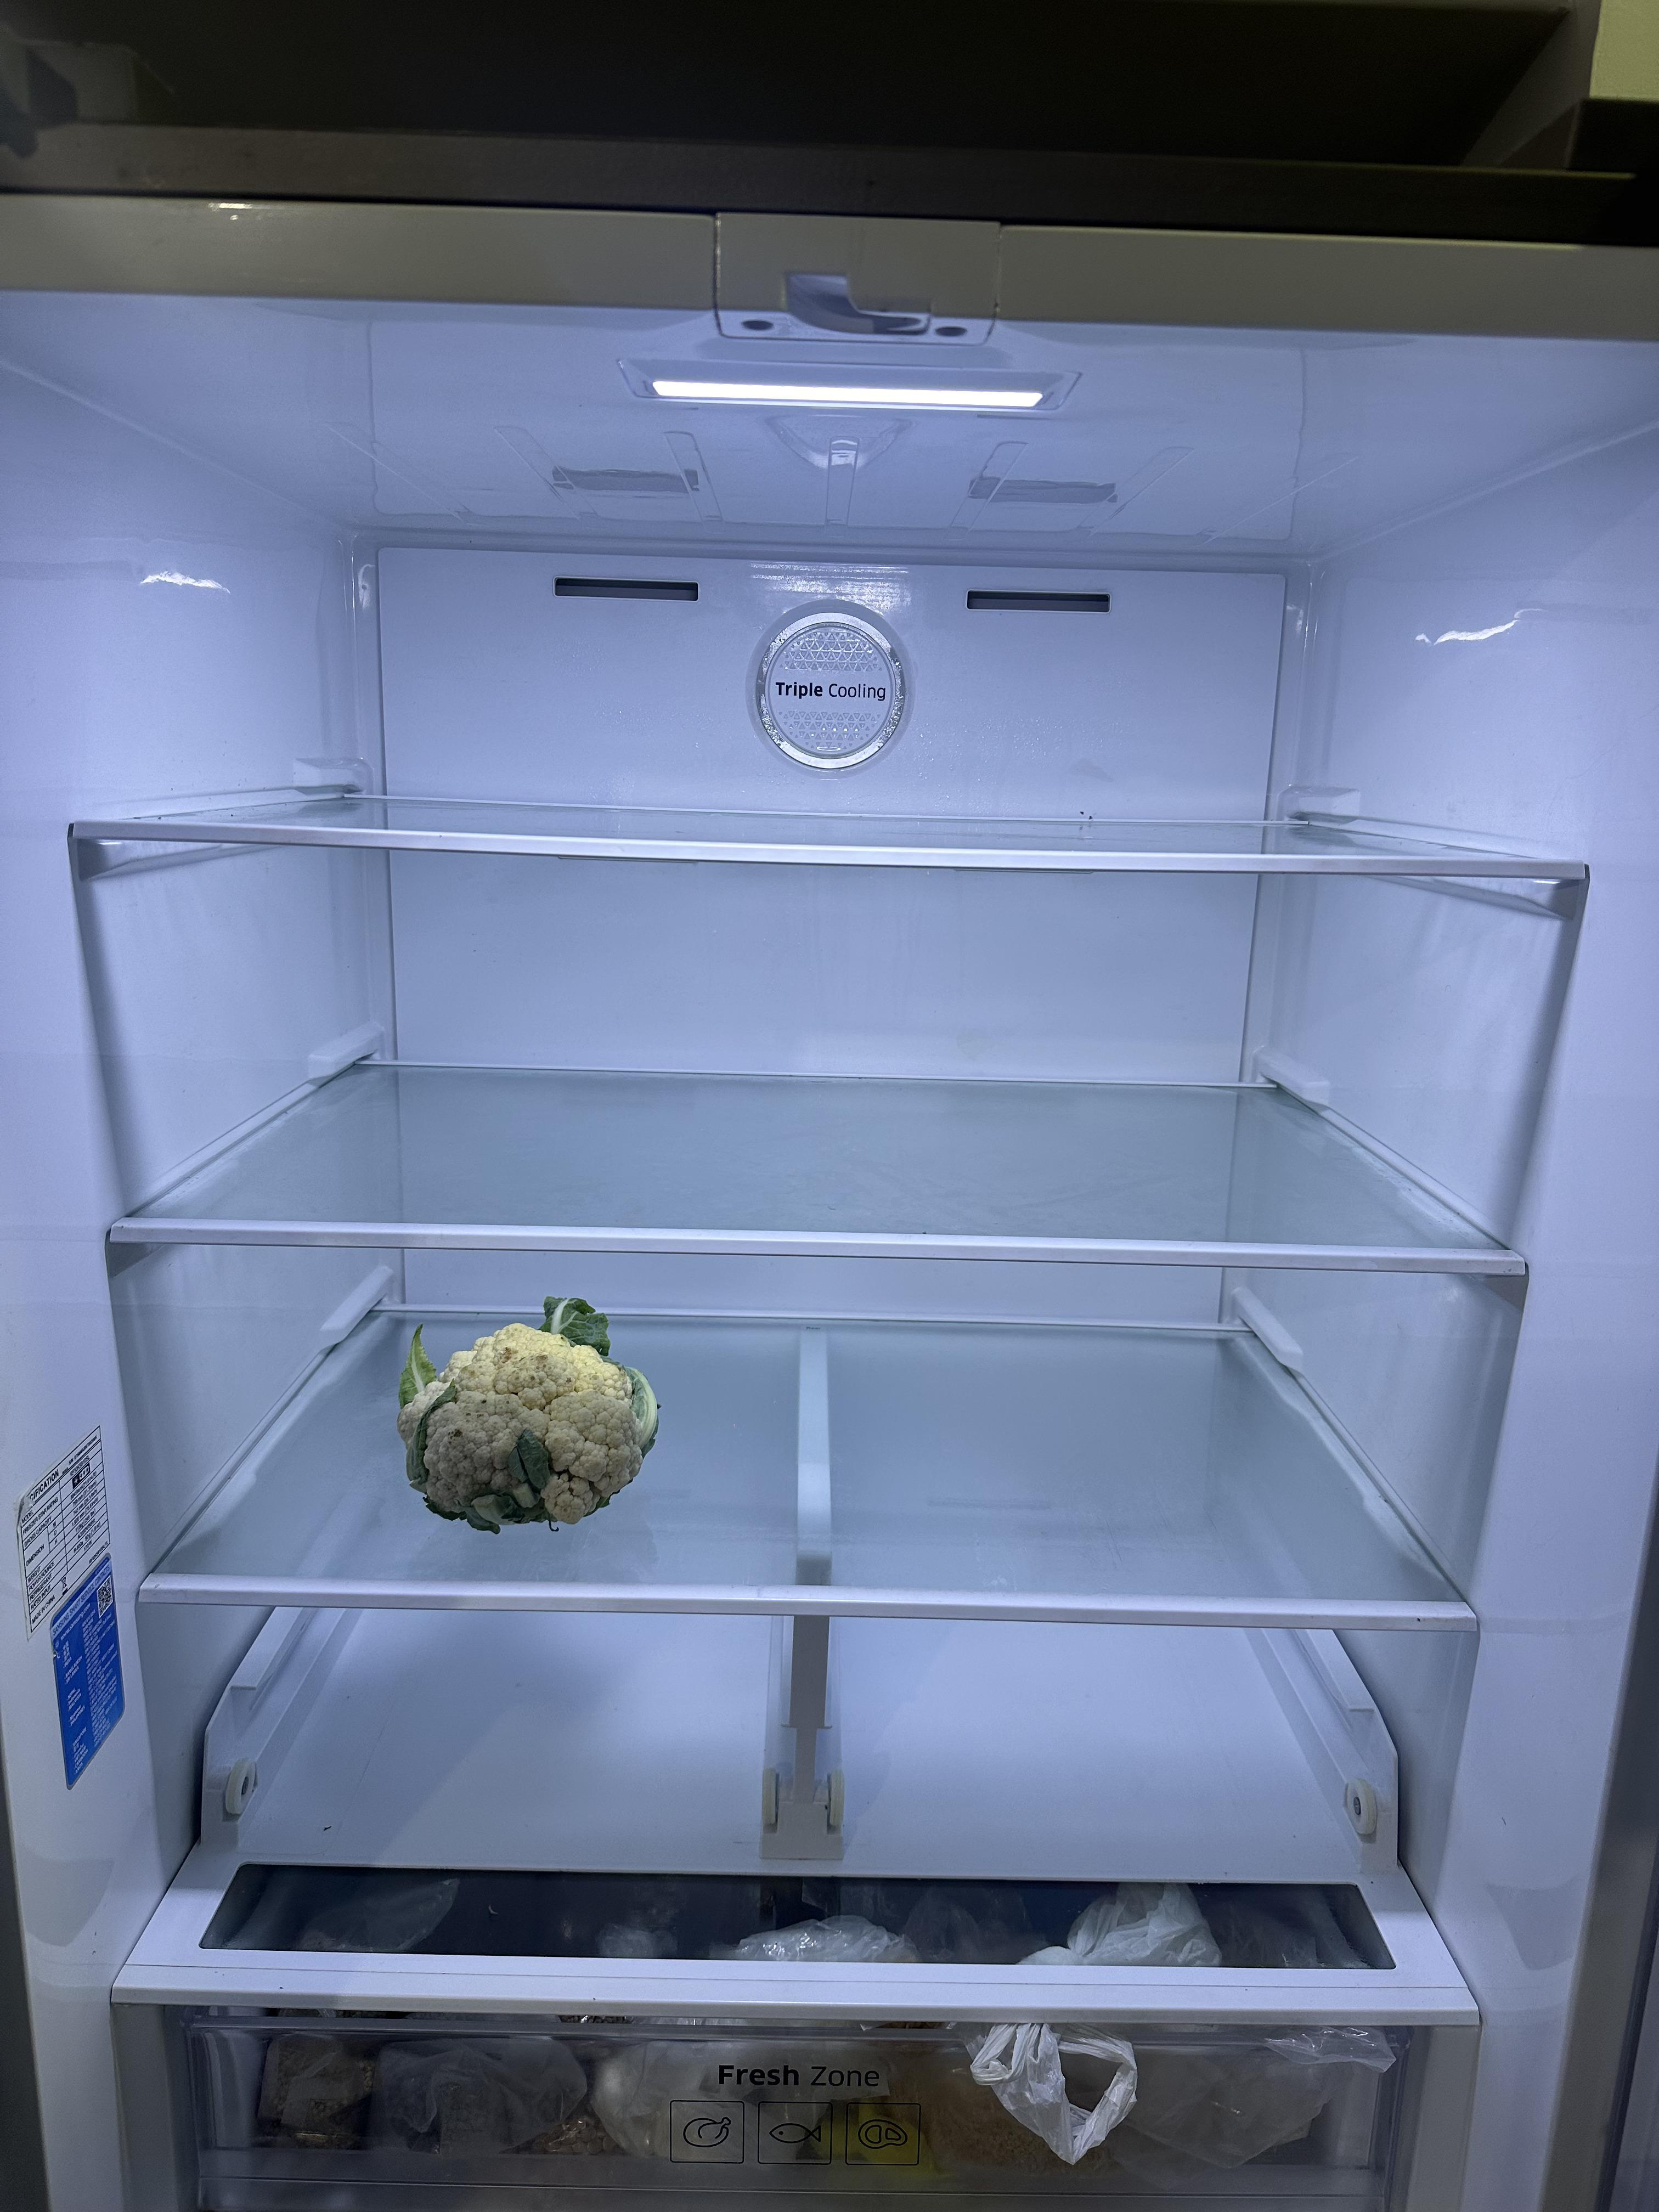cauliflower: (384, 1275, 670, 1534)
